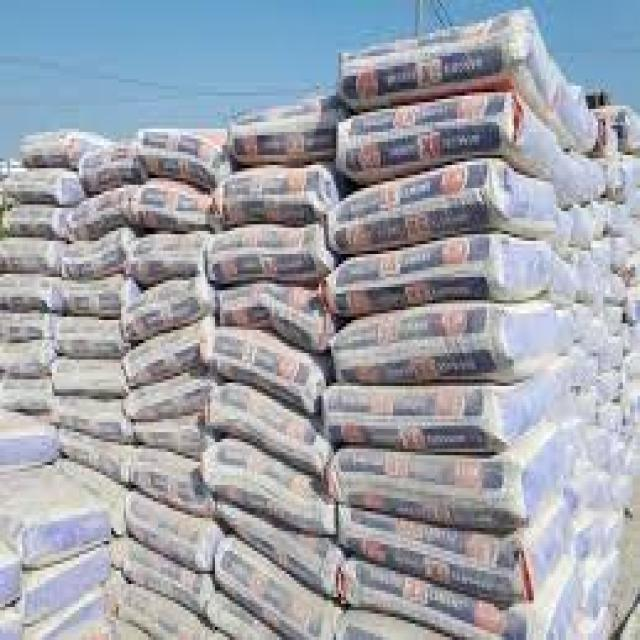cement_bag: (339, 12, 605, 149), (328, 415, 567, 530), (341, 495, 572, 604), (339, 89, 562, 181), (332, 163, 559, 252), (342, 557, 583, 640), (341, 299, 558, 384), (325, 373, 551, 451), (329, 240, 546, 311), (217, 547, 337, 640), (207, 446, 325, 530), (222, 385, 316, 469), (122, 495, 217, 575), (29, 543, 113, 625), (221, 335, 313, 408), (21, 500, 109, 573), (220, 224, 316, 283), (235, 102, 330, 161), (220, 167, 321, 219), (131, 448, 208, 516), (122, 326, 202, 391), (221, 293, 320, 344), (131, 554, 209, 618), (138, 127, 226, 182), (124, 281, 196, 346), (59, 422, 135, 481), (130, 375, 209, 427), (66, 184, 133, 240), (135, 184, 207, 229), (72, 226, 125, 285), (79, 142, 142, 191), (135, 234, 205, 274), (55, 361, 120, 399), (62, 278, 130, 314), (56, 319, 122, 356), (1, 240, 56, 273), (12, 168, 64, 201), (5, 344, 48, 379), (3, 281, 57, 307), (4, 311, 48, 342)
